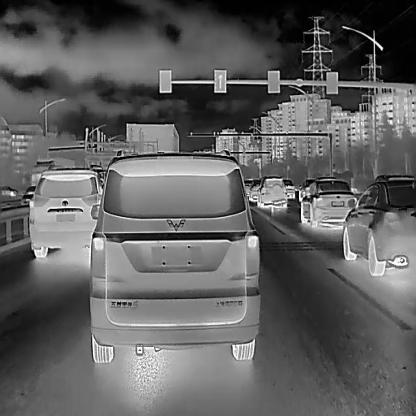car: (86, 149, 260, 362), (340, 176, 415, 276), (27, 168, 102, 258), (299, 176, 358, 226), (256, 176, 288, 206), (20, 185, 38, 206), (247, 178, 261, 201), (281, 176, 294, 199), (0, 184, 17, 196)
truck: (125, 121, 179, 160), (30, 156, 75, 192)
